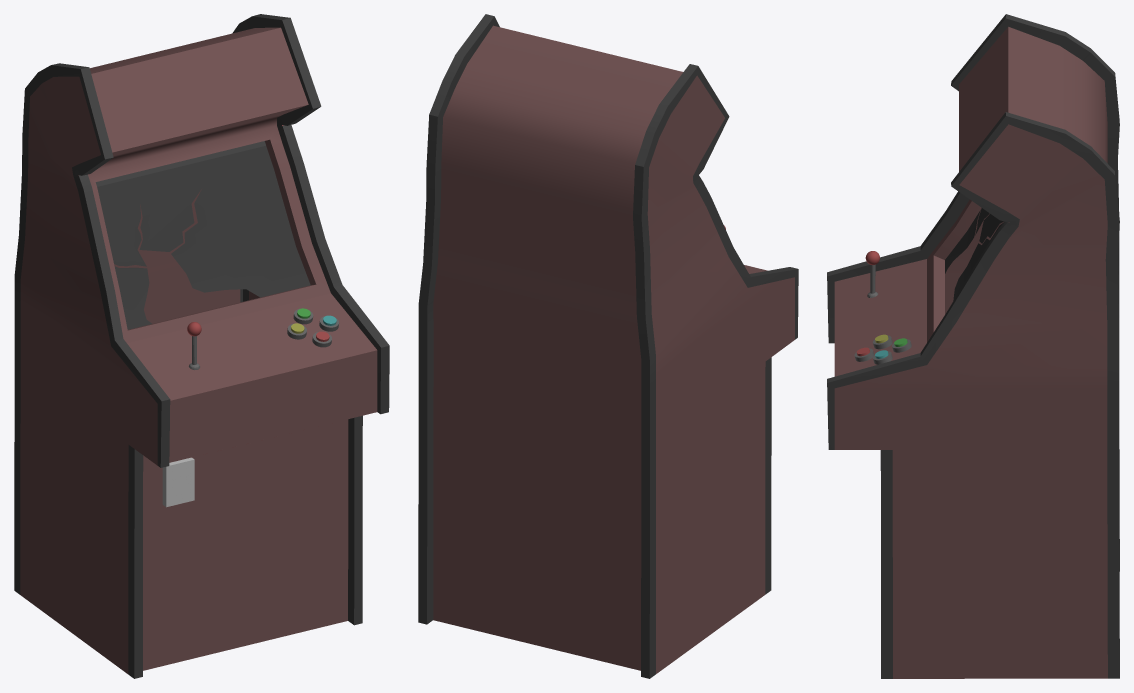
The model's file is brokendownmachine.fbx.
The picture shows the model from 3 angles, left to right: view 1: azimuth 30°, elevation 25°; view 2: azimuth 150°, elevation 25°; view 3: azimuth 270°, elevation 25°; orthographic projection.
Visible parts, largest first — view 1: pCube3, pPlane2; view 2: pCube3; view 3: pCube3.
Boxes of the visible parts, box(x1,y1,x2,y2) form: pCube3: box(14, 14, 389, 678); pPlane2: box(162, 457, 194, 507); pCube3: box(418, 14, 798, 678); pCube3: box(827, 14, 1119, 678).
Bounding box in the file's own units: 2.21 × 5.2 × 2.47.
